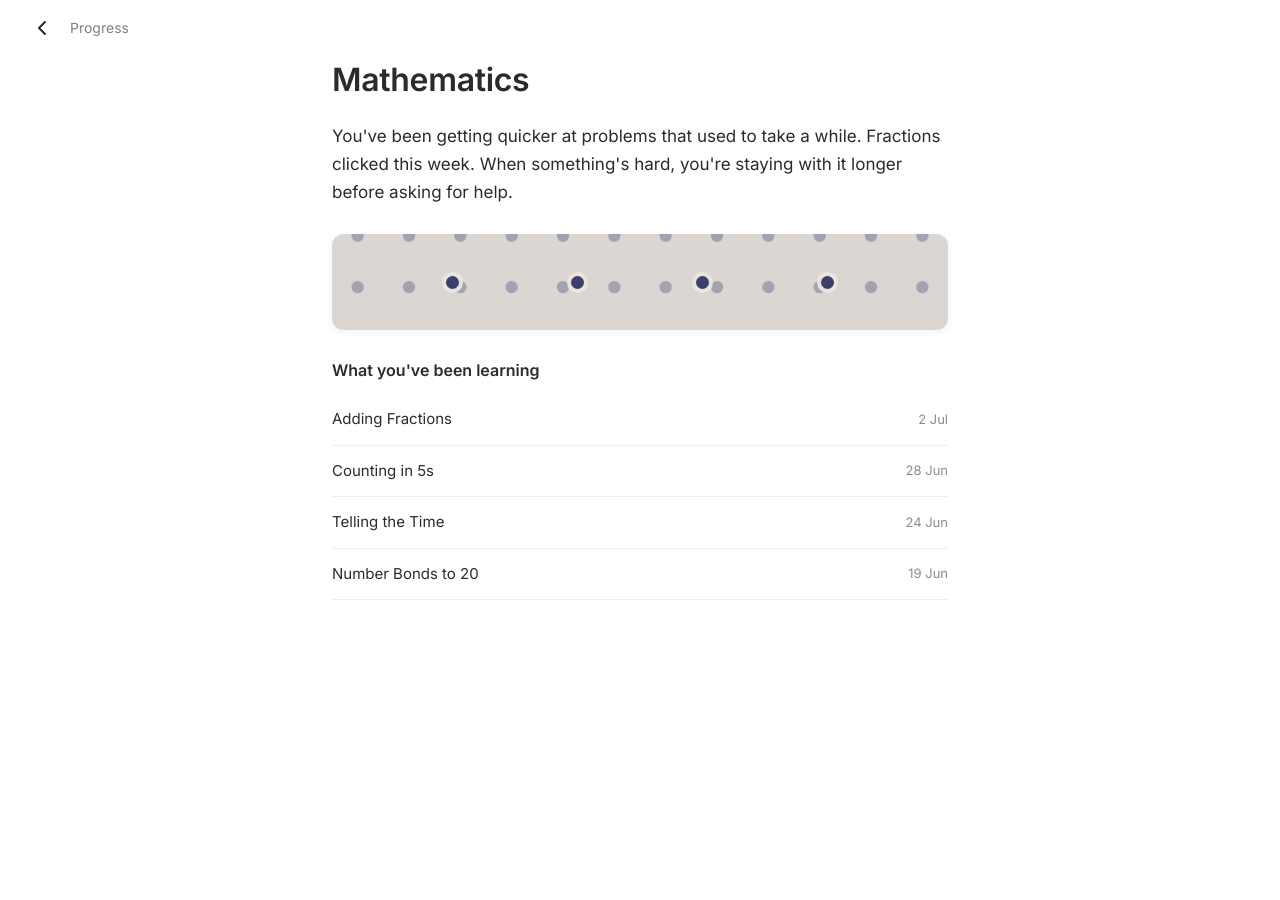
the session markers › are one per session, all level, and each opens its session
The width and height of the screenshot is (1280, 900).
Click the button named "View session:" at (827, 282), box [805,260,849,304]
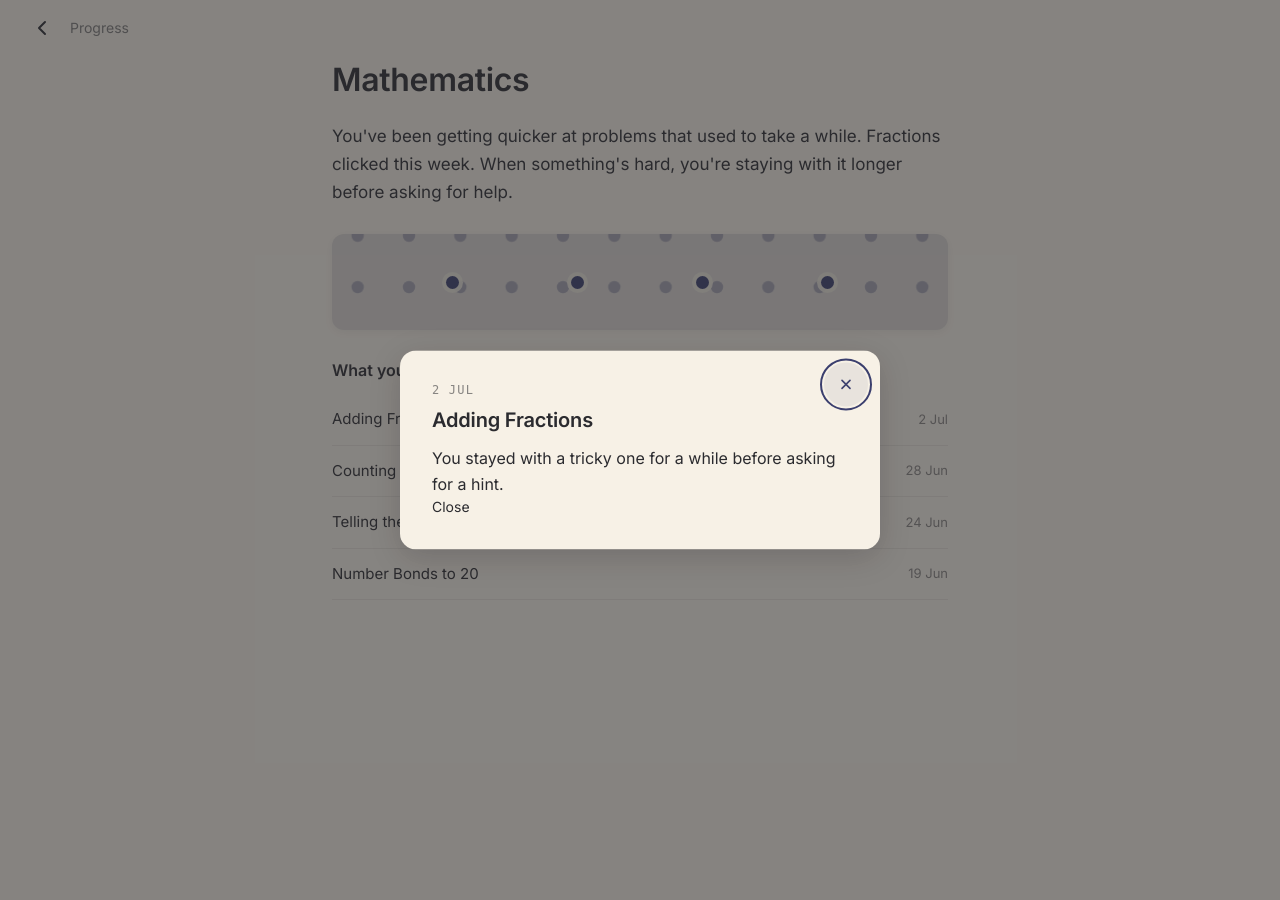
Result: the dialog "Adding Fractions" is shown at [400,350,880,550]
